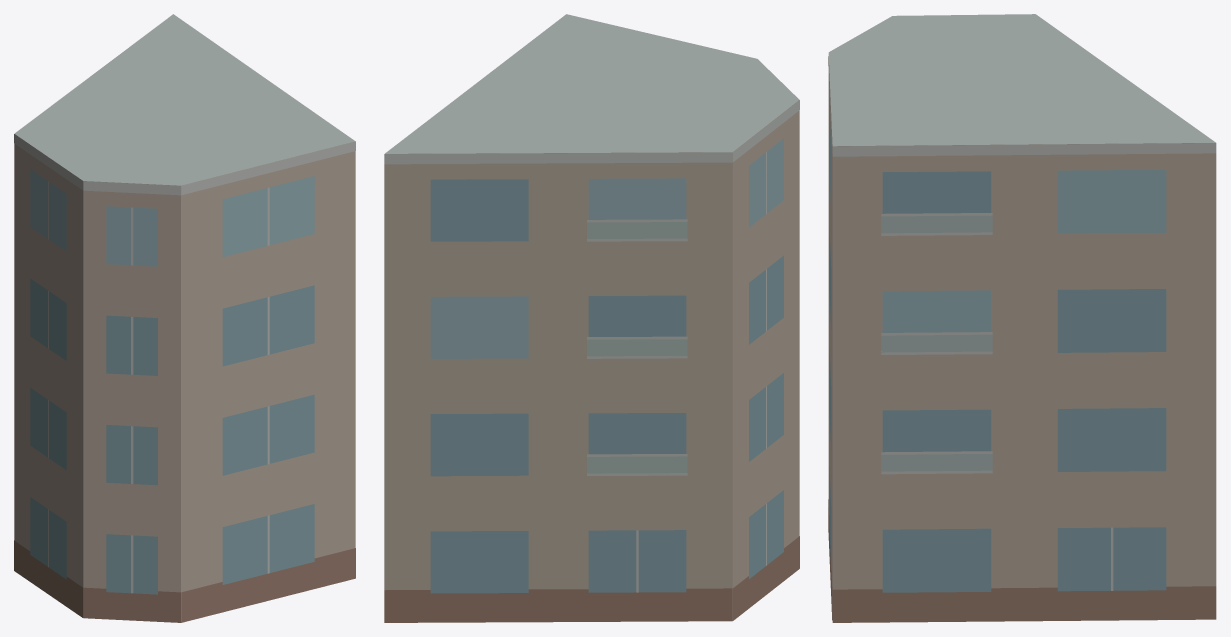
File: survey-upis-32499094.glb
The picture shows the model from 3 angles, left to right: view 1: azimuth 30°, elevation 25°; view 2: azimuth 150°, elevation 25°; view 3: azimuth 270°, elevation 25°; orthographic projection. The views are drawn at different scales.
Parts seen in each view (by area): view 1: survey-upis-32499094.tmp; view 2: survey-upis-32499094.tmp; view 3: survey-upis-32499094.tmp.
Part boxes in pixels (<box>): survey-upis-32499094.tmp: <box>14,14,355,622</box>; survey-upis-32499094.tmp: <box>384,14,799,622</box>; survey-upis-32499094.tmp: <box>828,14,1216,622</box>.
Bounding box in the file's own units: 6.56 × 11 × 8.12.
